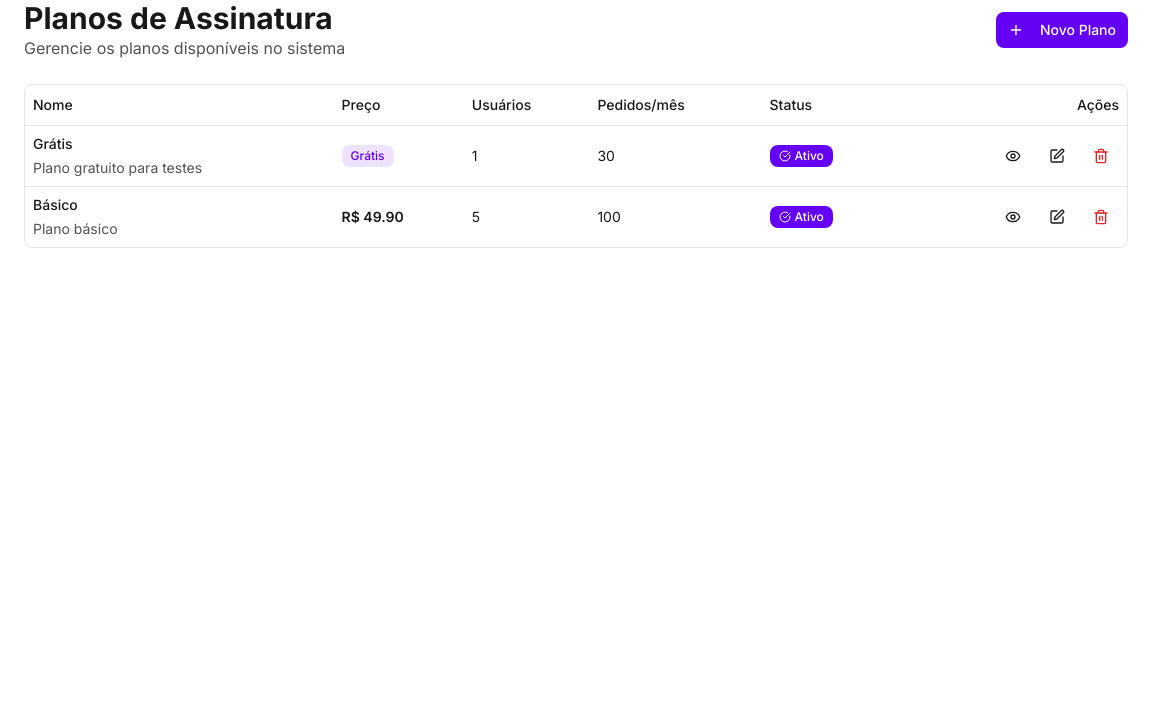
Admin Plans Page › abre modal de criar plano
The width and height of the screenshot is (1152, 720).
Click the button "Novo Plano".
click(1062, 30)  # box [996,12,1128,48]
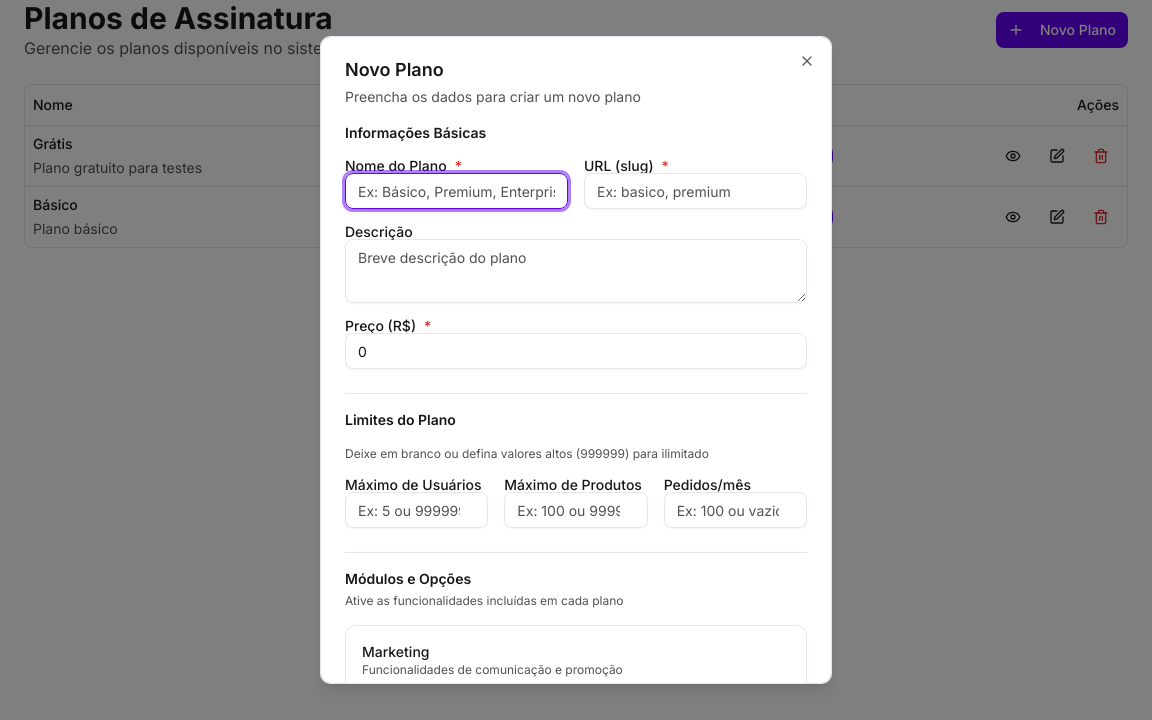
expect the heading "Novo Plano" is shown: met, box [345,59,444,80]
expect the field labelled "Nome do Plano *" is shown: met, box [345,173,568,209]
